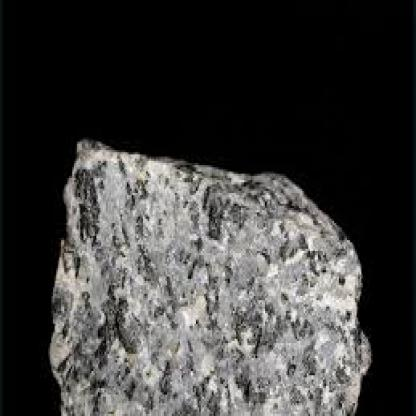Igneous_Diorite: (43, 124, 371, 414)
